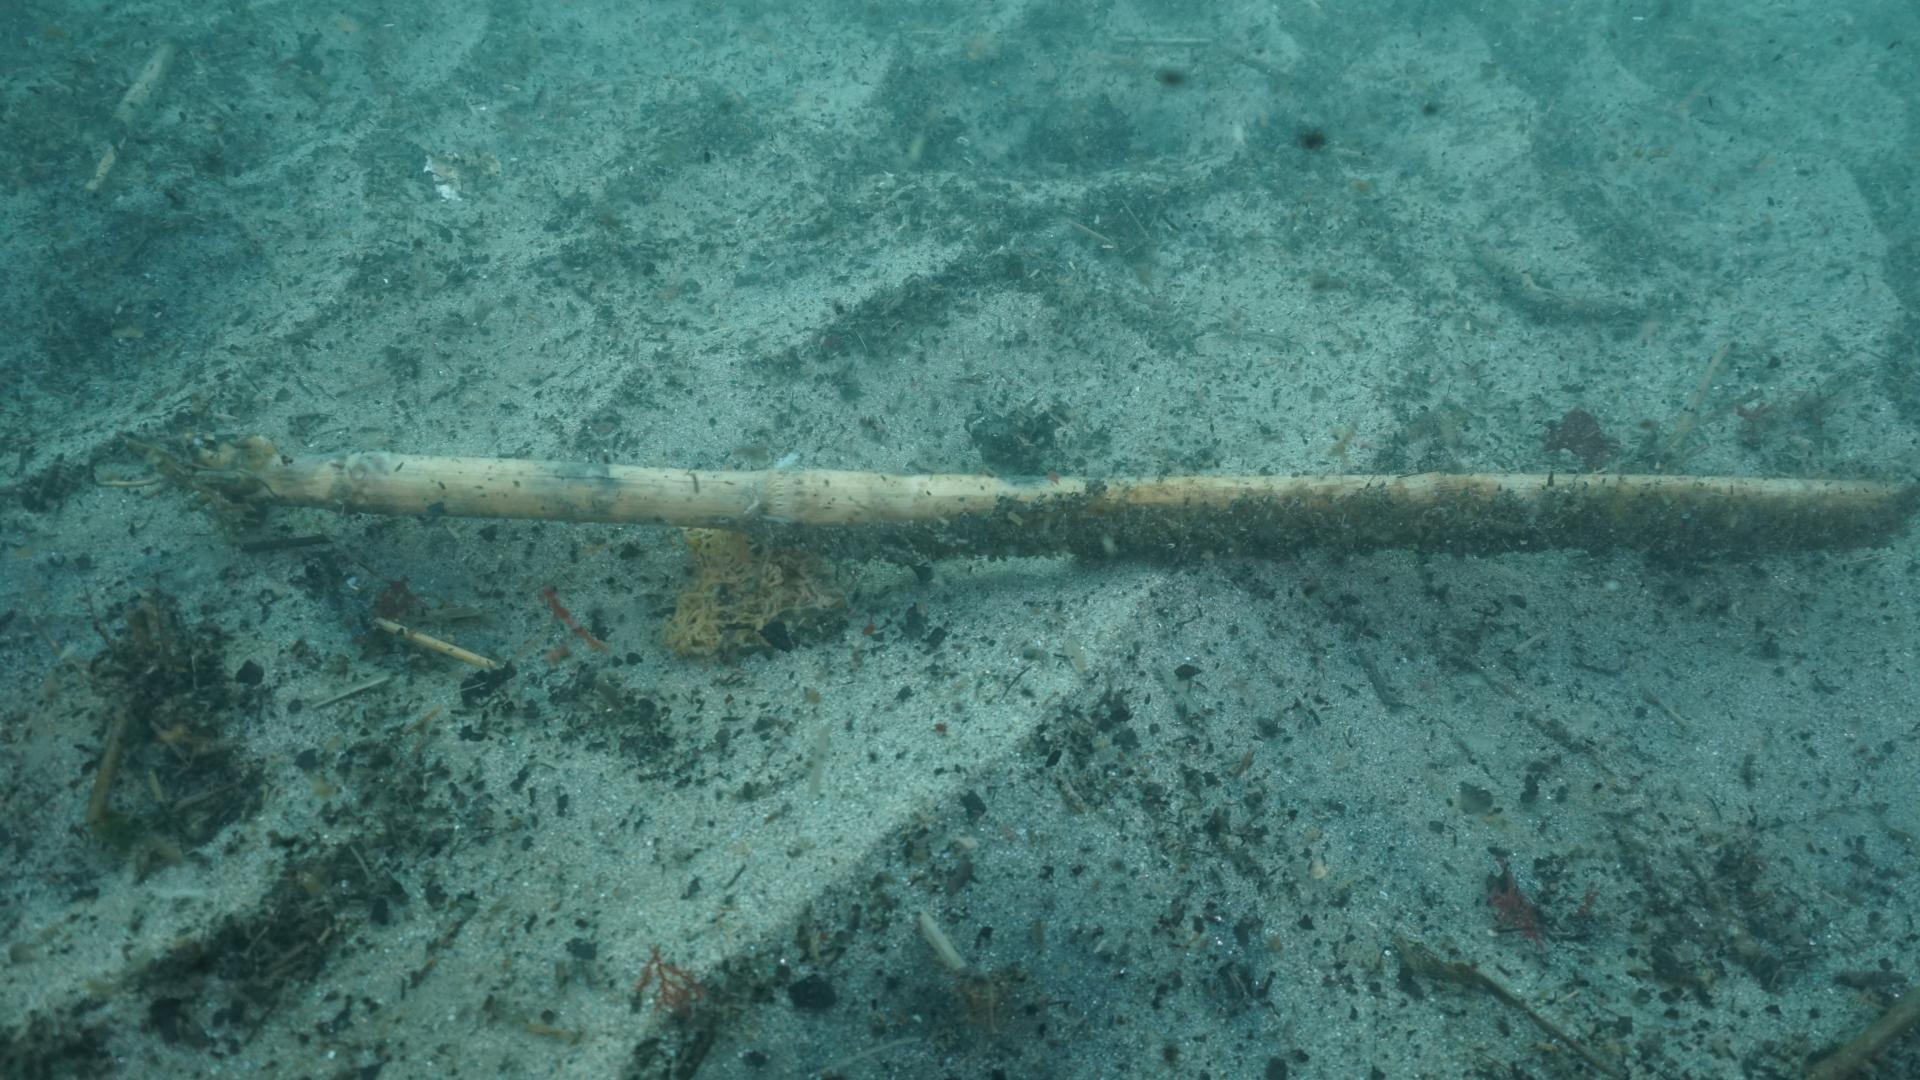wood: (186, 429, 1919, 562)
